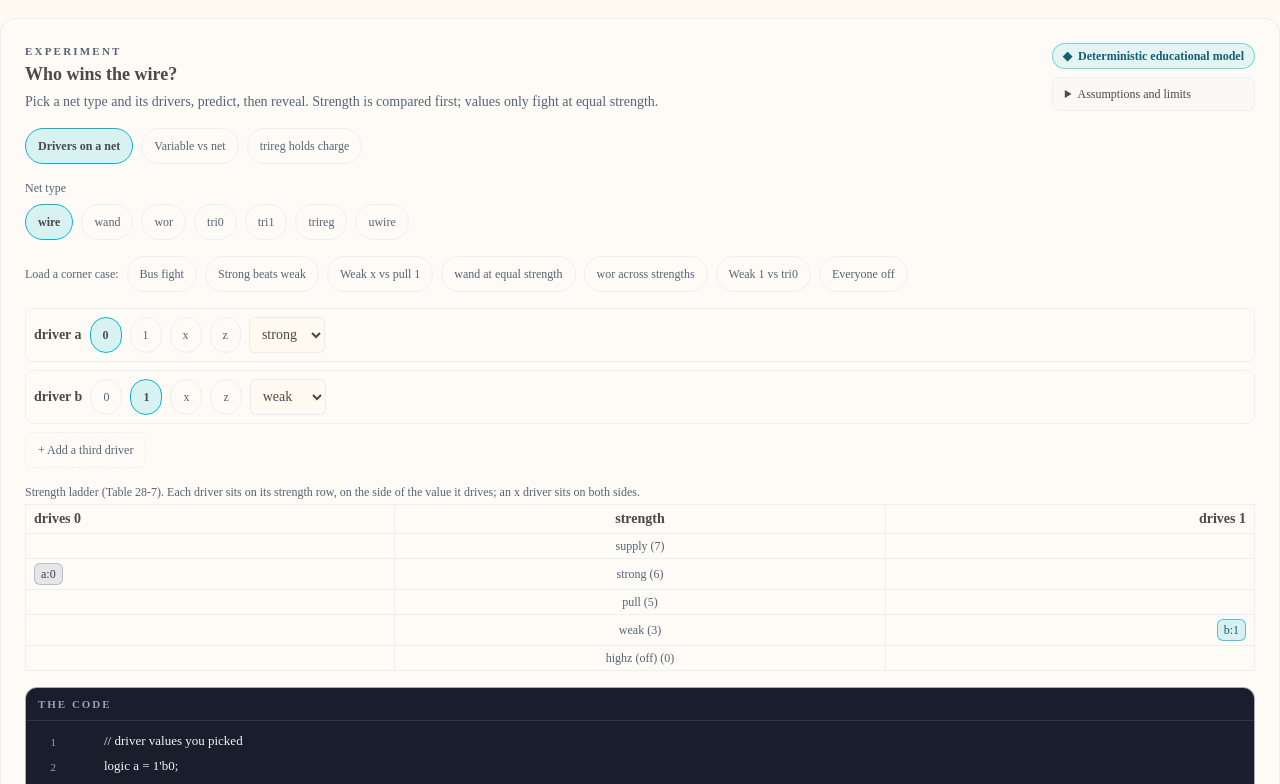
Test: NetResolutionSimulator › lets the learner set a driver strength and add a third driver from the keyboard
Select "supply" in the 2nd dropdown named "Strength of driver b" at x=288, y=396, box [250,378,326,414]
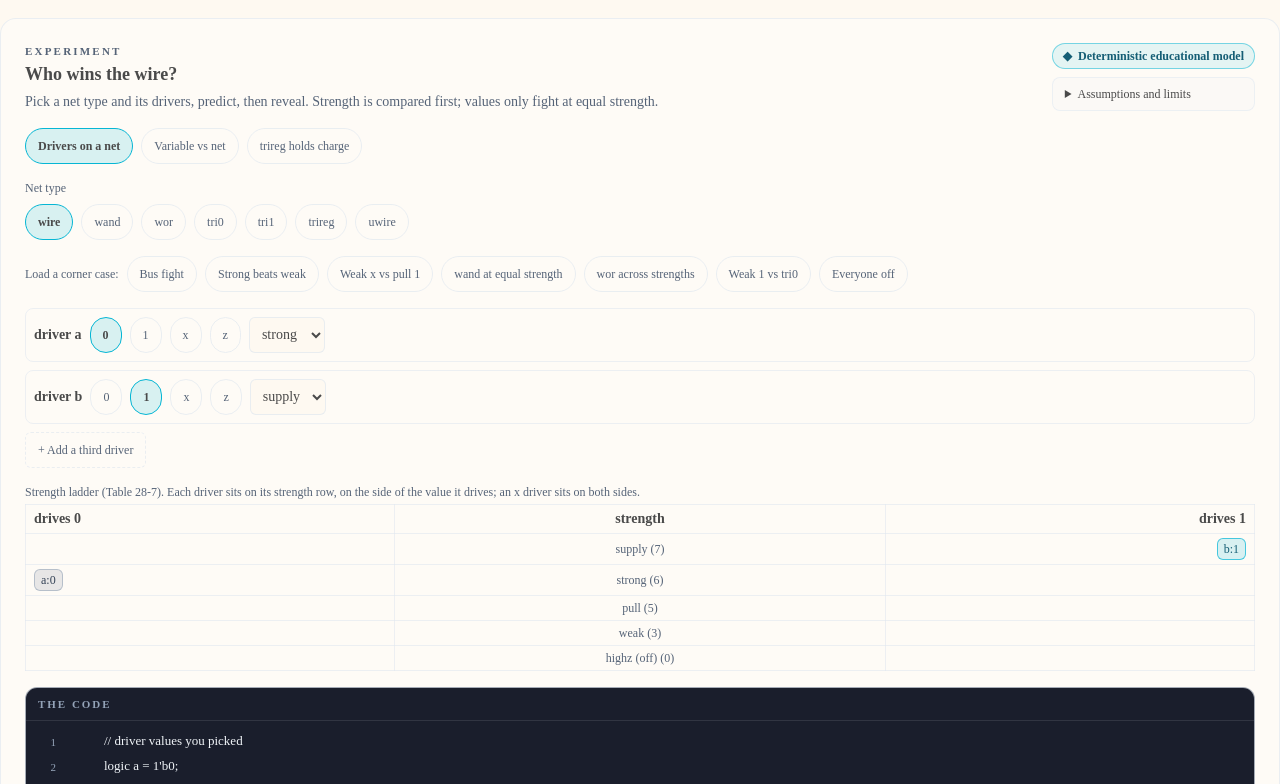
Click the button "+ Add a third driver" at x=86, y=450, box [25,432,146,468]
(page scrolled)
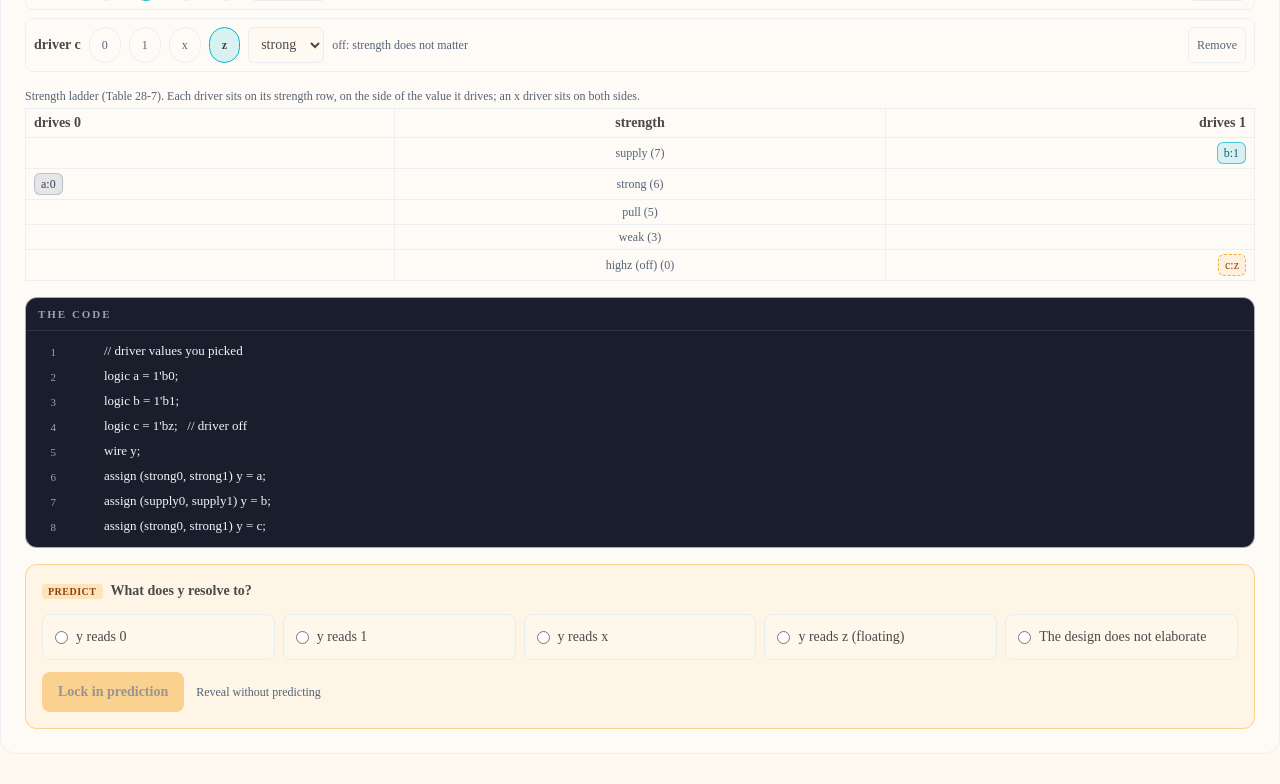
Check: the element named "Value driven by c" is shown, box [89,26,240,62]
Click the radio button labelled "y reads 1" at x=302, y=638, box [296,631,309,644]
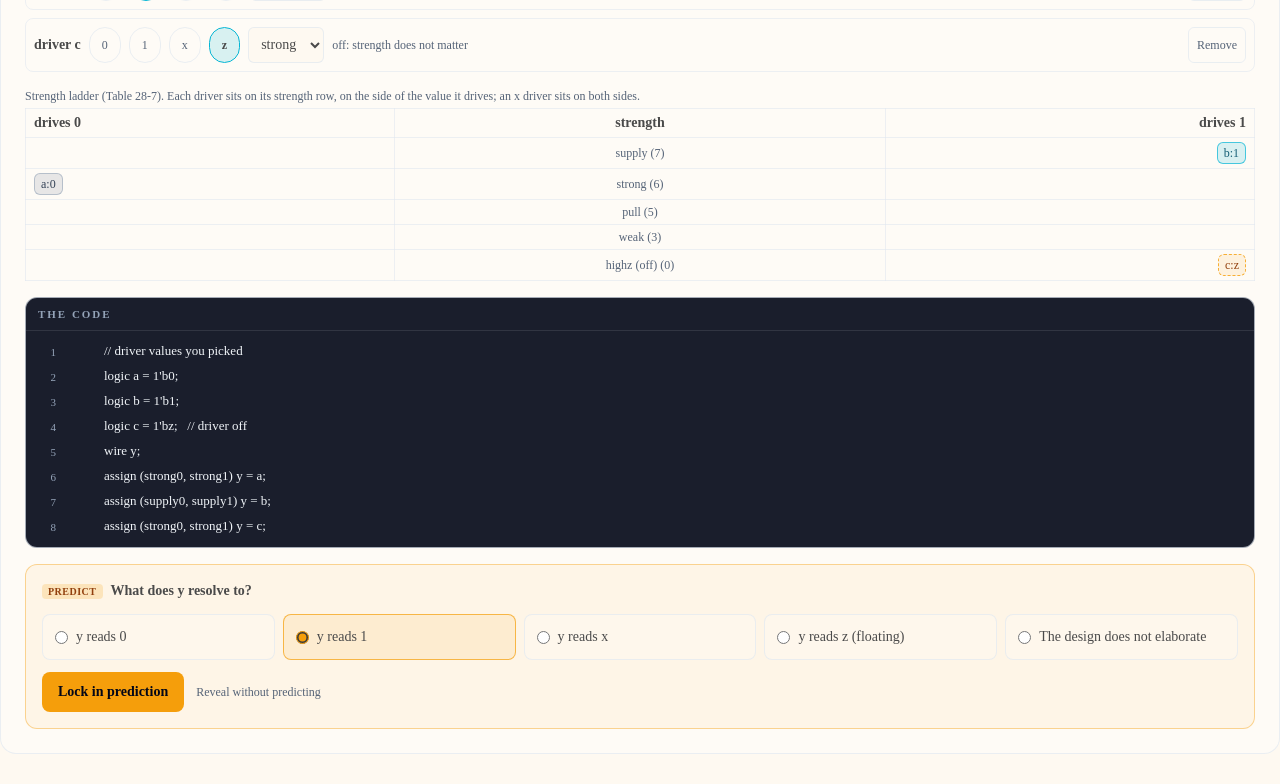
Click the button "Lock in prediction" at x=113, y=692, box [42,672,184,712]
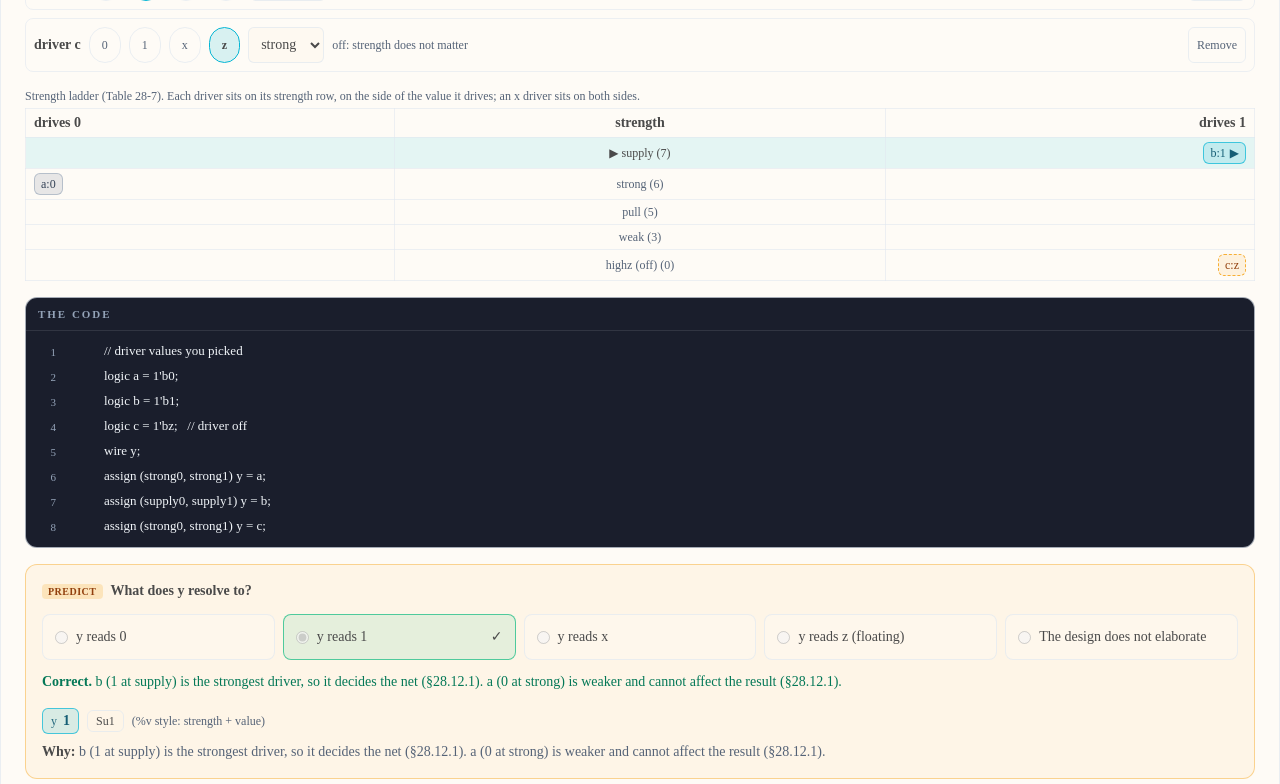
Check: the text named "strength and value Su1" is shown, box [87,710,124,732]
